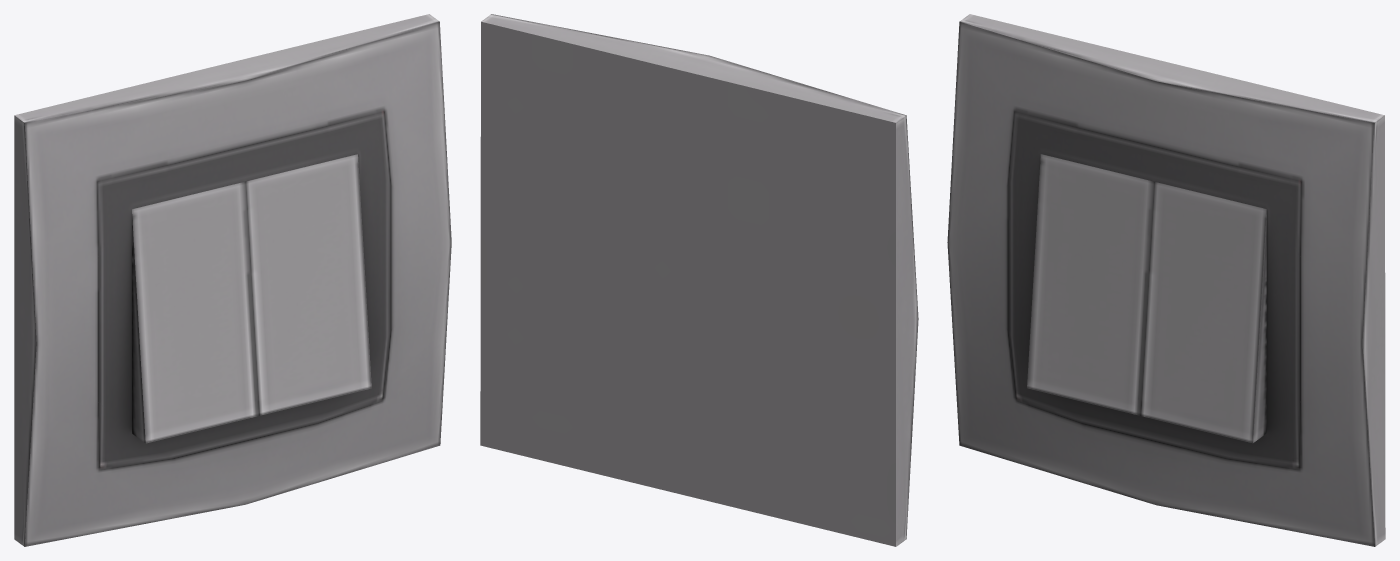
Rendered from SwitchC.FBX.
3 renders of one model, left to right at view 1: azimuth 30°, elevation 25°; view 2: azimuth 150°, elevation 25°; view 3: azimuth 330°, elevation 25°, orthographic.
Parts seen in each view (by area): view 1: SwitchC; view 2: SwitchC; view 3: SwitchC.
Part boxes in pixels (box(x1,y1,x2,y2)): SwitchC: box(14, 14, 451, 546); SwitchC: box(480, 14, 918, 546); SwitchC: box(947, 14, 1385, 546).
Bounding box in the file's own units: 9.12 × 1.41 × 8.89.
